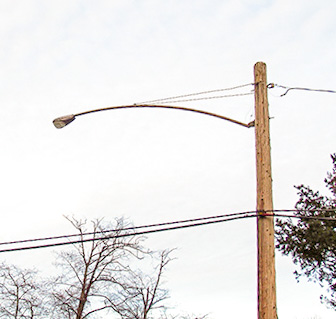light_pole: (246, 61, 281, 319)
